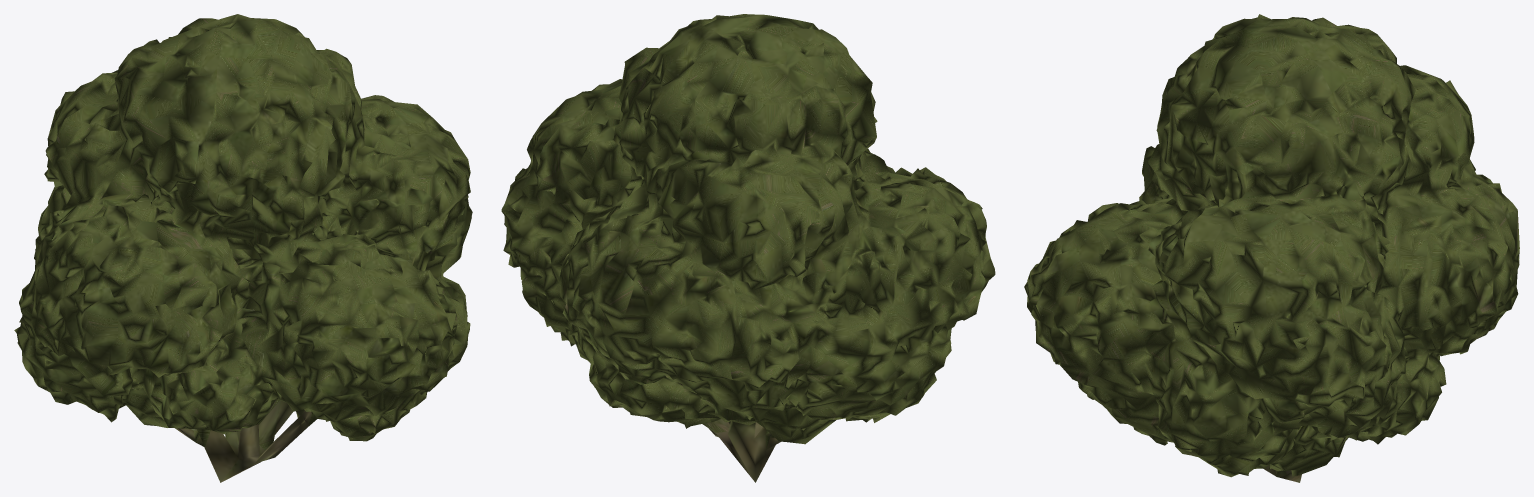
File: arbusto_bayas_alto.glb
3 renders of one model, left to right at view 1: azimuth 30°, elevation 25°; view 2: azimuth 150°, elevation 25°; view 3: azimuth 270°, elevation 25°, orthographic.
Parts seen in each view (by area): view 1: alto; view 2: alto; view 3: alto.
Boxes of the visible parts, x1=… form: alto: x1=14, y1=14, x2=472, y2=482; alto: x1=501, y1=14, x2=995, y2=482; alto: x1=1024, y1=14, x2=1519, y2=482.
Size of the model in its own units: 0.9599 by 0.95 by 0.9232.
1 material, 1 textured.
